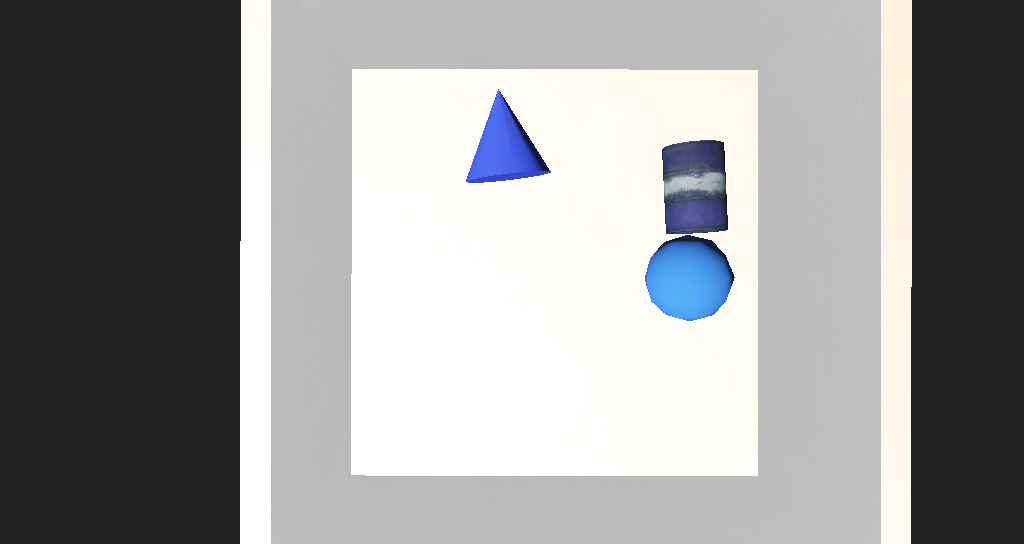cone: (579, 200, 633, 248)
cylinder: (424, 165, 505, 227)
sphere: (566, 251, 633, 293)
